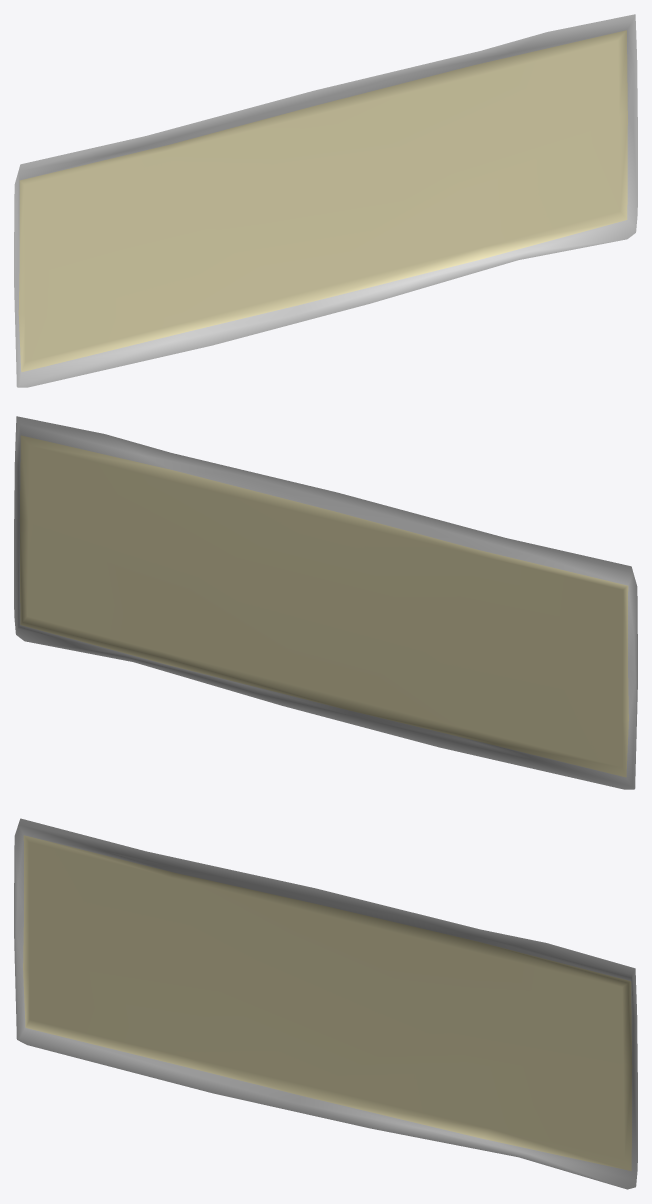
The model's file is ui_inset_10x3.glb.
The picture shows the model from 3 angles, top to bottom: view 1: azimuth 30°, elevation 25°; view 2: azimuth 150°, elevation 25°; view 3: azimuth 330°, elevation 25°; orthographic projection.
Parts seen in each view (by area): view 1: Cube; view 2: Cube; view 3: Cube.
Boxes of the visible parts, <box> form: Cube: <box>14,14,637,387</box>; Cube: <box>14,416,637,789</box>; Cube: <box>14,818,637,1189</box>.
Bounding box in the file's own units: 2.06 × 0.7312 × 0.0151.
